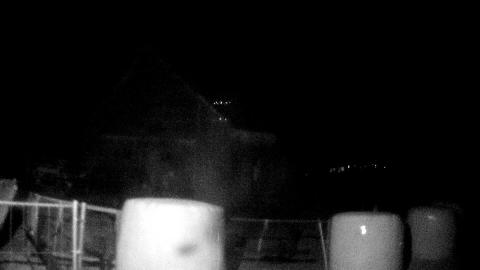sheep: (0, 178, 17, 224)
